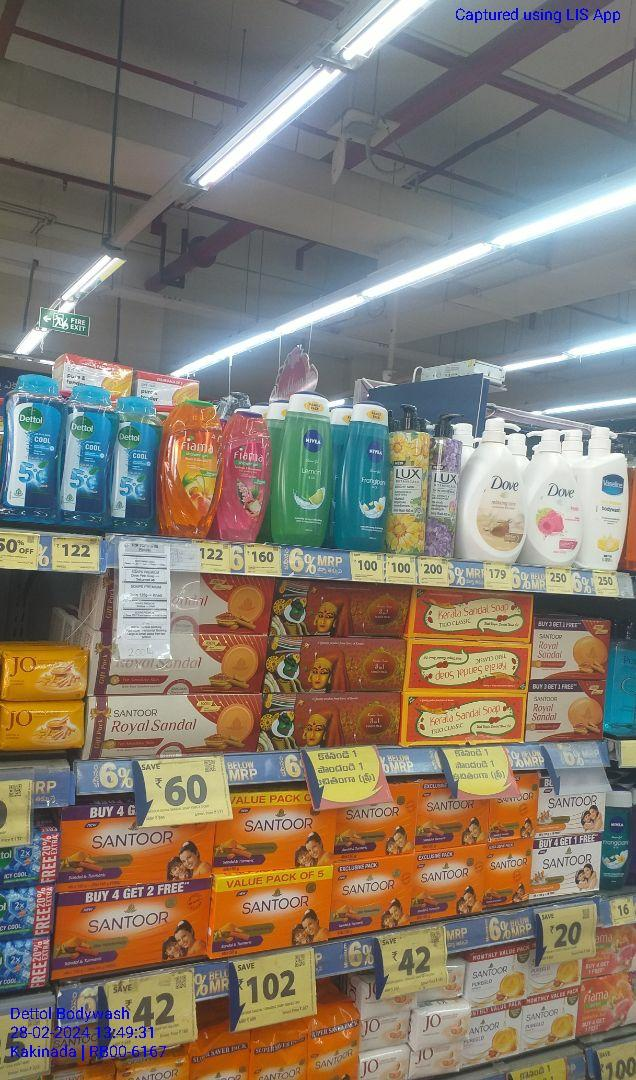Dettol_Bodywash_Cool: (3, 371, 65, 524), (65, 381, 115, 524), (118, 392, 158, 530)
Fiama_Shower_Gel_Patchouli_and_Macadamia_250ML: (226, 405, 272, 542)
Fiama_Shower_Gel_Peach_and_Avocado_250ML: (160, 398, 224, 537)
Nivea_Shower_Gel_Frangipani_and_Oil_250ML: (338, 399, 389, 549)
Nivea_Shower_Gel_Lemon_and_Oil_250ML: (278, 390, 336, 548)
